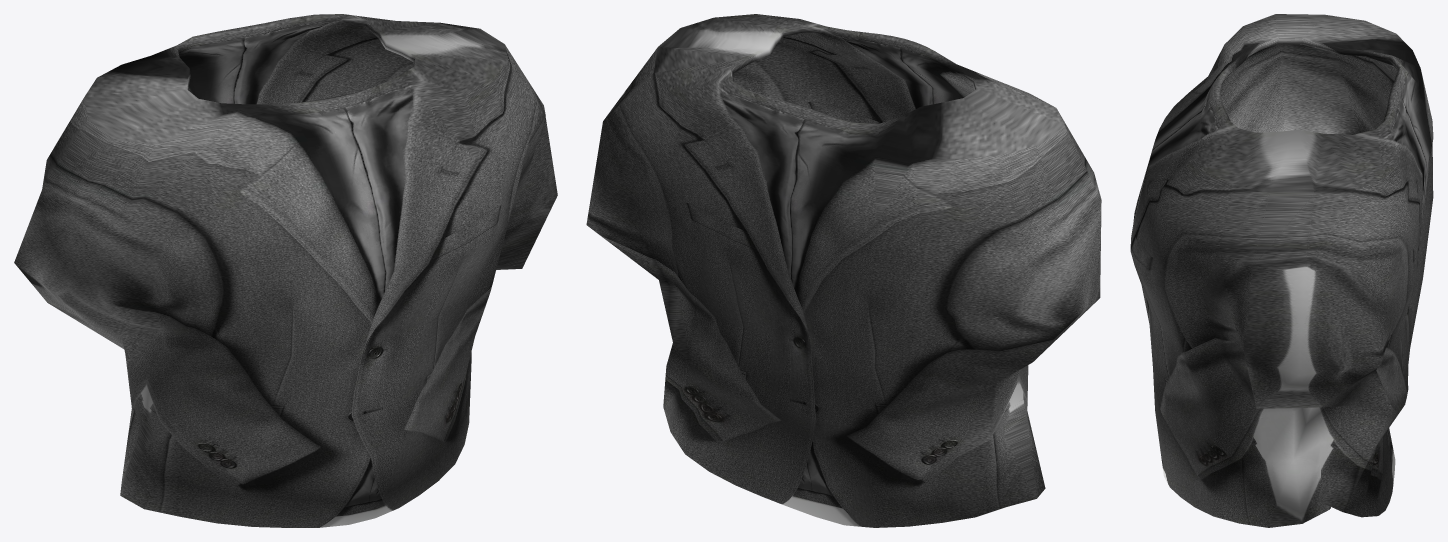
The picture shows the model from 3 angles, left to right: view 1: azimuth 30°, elevation 25°; view 2: azimuth 150°, elevation 25°; view 3: azimuth 270°, elevation 25°; orthographic projection. The views are drawn at different scales.
Visible parts, largest first — view 1: garment; view 2: garment; view 3: garment.
Part boxes in pixels (box(x1,y1,x2,y2)): garment: box(14, 14, 557, 527); garment: box(586, 14, 1101, 527); garment: box(1130, 14, 1433, 527).
Bounding box in the file's own units: 0.5752 × 0.4551 × 0.32.
1 material, 1 textured.
